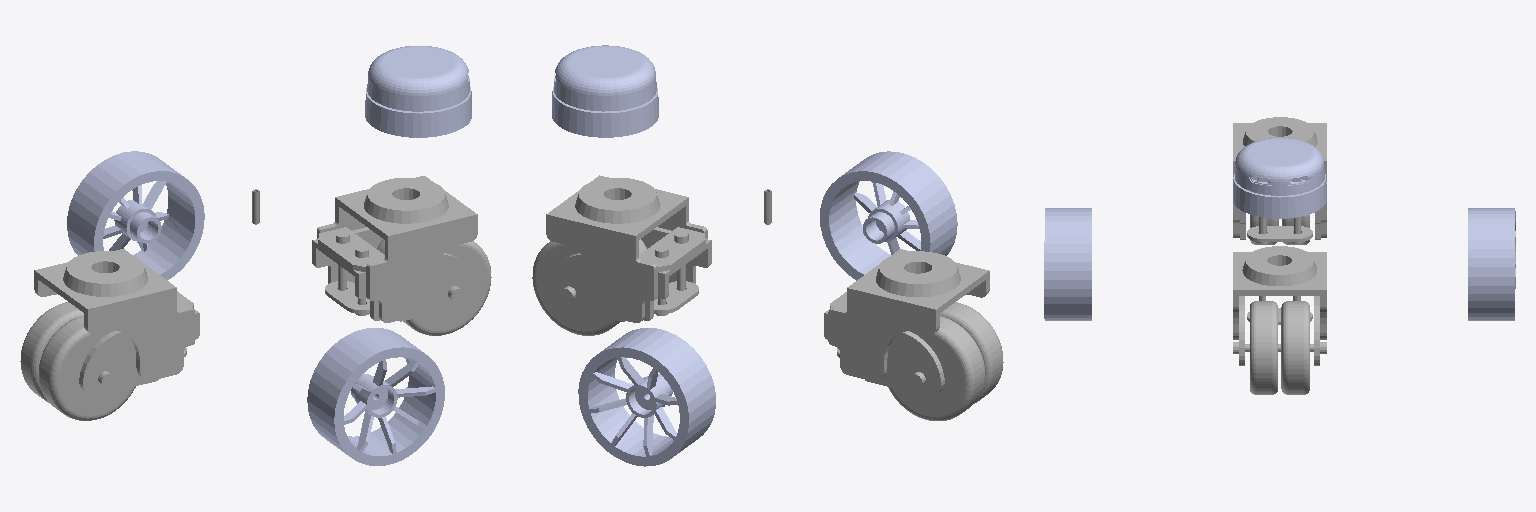
URDF robot description (AGV):
<?xml version="1.0" encoding="utf-8"?>
<!-- This URDF was automatically created by SolidWorks to URDF Exporter! Originally created by [author] ([email redacted]) 
     Commit Version: 1.6.0-1-g15f4949  Build Version: 1.6.7594.29634
     For more information, please see http://wiki.ros.org/sw_urdf_exporter -->
<robot name="AGV"> 

  <link name="base_footprint"/>

  <joint name="base_joint" type="fixed">
    <parent link="base_footprint"/>
    <child link="base_link"/>
    <origin xyz="0.0 0.0 0.0707" rpy="0 0 0"/>
  </joint>


  <link
    name="base_link">
    <inertial>
      <origin
        xyz="0.00109242454391657 -2.60058587002593E-05 -0.0128047227127579"
        rpy="0 0 0" />
      <mass
        value="3.47951537357257" />
      <inertia
        ixx="0.0283503032589176"
        ixy="1.40187790352864E-06"
        ixz="-6.43285437919403E-11"
        iyy="0.029742768517206"
        iyz="-1.79370261167301E-11"
        izz="0.0577998837977604" />
    </inertial>

    <visual>
      <origin
        xyz="0 0 0"
        rpy="0 0 0" />
      <geometry>
        <mesh
          filename="package://robot_description/meshes/base_link.STL" />
      </geometry>
      <material
        name="">
        <color
          rgba="0.745098039215686 0.737254901960784 0.729411764705882 1" />
      </material>
    </visual>

    <collision>
      <origin
        xyz="0 0 0"
        rpy="0 0 0" />
      <geometry>
        <mesh
          filename="package://robot_description/meshes/base_link.STL" />
      </geometry>
    </collision>
  </link>


  <link
    name="wheel_left_link">
    <inertial>
      <origin
        xyz="9.83472570771662E-18 0.00728844339005719 6.93889390390723E-17"
        rpy="0 0 0" />
      <mass
        value="0.0848957004604736" />
      <inertia
        ixx="7.49074965198782E-05"
        ixy="-4.10033560387089E-20"
        ixz="-1.16910573539205E-20"
        iyy="0.000130222848529084"
        iyz="4.77841065602832E-19"
        izz="7.49074965198782E-05" />
    </inertial>

    <visual>
      <origin
        xyz="0 0 0"
        rpy="0 0 0" />
      <geometry>
        <mesh
          filename="package://robot_description/meshes/left_link.STL" />
      </geometry>
      <material
        name="">
        <color
          rgba="0.792156862745098 0.819607843137255 0.933333333333333 1" />
      </material>
    </visual>

    <collision>
      <origin
        xyz="0 0 0"
        rpy="0 0 0" />
      <geometry>
        <mesh
          filename="package://robot_description/meshes/left_link.STL" />
      </geometry>
    </collision>
  </link>


  <joint
    name="wheel_left_joint"
    type="continuous">
    <origin
      xyz="0.00016087 0.16232 -0.0665"
      rpy="0 0 -0.00099109" />
    <parent
      link="base_link" />
    <child
      link="wheel_left_link" />
    <axis
      xyz="0 1 0" />
  </joint>


  <link
    name="wheel_right_link">
    <inertial>
      <origin
        xyz="1.72506873414949E-16 -0.00728844339005699 -2.08166817117217E-17"
        rpy="0 0 0" />
      <mass
        value="0.0848957004604734" />
      <inertia
        ixx="7.4907496519878E-05"
        ixy="-3.29077335789557E-19"
        ixz="-8.56977026080893E-21"
        iyy="0.000130222848529083"
        iyz="7.6497990049025E-22"
        izz="7.4907496519878E-05" />
    </inertial>

    <visual>
      <origin
        xyz="0 0 0"
        rpy="0 0 0" />
      <geometry>
        <mesh
          filename="package://robot_description/meshes/right_link.STL" />
      </geometry>
      <material
        name="">
        <color
          rgba="0.792156862745098 0.819607843137255 0.933333333333333 1" />
      </material>
    </visual>

    <collision>
      <origin
        xyz="0 0 0"
        rpy="0 0 0" />
      <geometry>
        <mesh
          filename="package://robot_description/meshes/right_link.STL" />
      </geometry>
    </collision>
  </link>


  <joint
    name="wheel_right_joint"
    type="continuous">
    <origin
      xyz="-0.00016087 -0.16232 -0.0665"
      rpy="0 0 -0.00099109" />
    <parent
      link="base_link" />
    <child
      link="wheel_right_link" />
    <axis
      xyz="0 1 0" />
  </joint>


  <link
    name="imu_link">
    <inertial>
      <origin
        xyz="-2.05320786414442E-18 6.93889390390723E-18 0.0125"
        rpy="0 0 0" />
      <mass
        value="0.000289811922293658" />
      <inertia
        ixx="1.57326817116465E-08"
        ixy="0"
        ixz="3.60038419913663E-25"
        iyy="1.57326817116465E-08"
        iyz="-2.54401519141024E-24"
        izz="1.27662151770356E-09" />
    </inertial>
    <visual>
      <origin
        xyz="0 0 0"
        rpy="0 0 0" />
      <geometry>
        <mesh
          filename="package://robot_description/meshes/imu_link.STL" />
      </geometry>
      <material
        name="">
        <color
          rgba="0.701960784313725 0.701960784313725 0.701960784313725 1" />
      </material>
    </visual>
    <collision>
      <origin
        xyz="0 0 0"
        rpy="0 0 0" />
      <geometry>
        <mesh
          filename="package://robot_description/meshes/imu_link.STL" />
      </geometry>
    </collision>
  </link>

  
  <joint name="imu_joint" type="fixed">
    <origin
      xyz="0 0 0"
      rpy="0 0 0" />
    <parent
      link="base_link" />
    <child
      link="imu_link" />
    <axis
      xyz="0 0 0" />
  </joint>


  <link
    name="base_scan">
    <inertial>
      <origin
        xyz="-0.000127229355419478 1.31350068537095E-07 0.019460782503022"
        rpy="0 0 0" />
      <mass
        value="0.166053843630804" />
      <inertia
        ixx="7.69193007417122E-05"
        ixy="-4.95548703593643E-10"
        ixz="2.37676143504077E-07"
        iyy="7.64310598769666E-05"
        iyz="-2.37005623379629E-10"
        izz="0.000108589049493822" />
    </inertial>

    <visual>
      <origin
        xyz="0 0 0"
        rpy="0 0 0" />
      <geometry>
        <mesh
          filename="package://robot_description/meshes/lidar_link.STL" />
      </geometry>
      <material
        name="">
        <color
          rgba="0.792156862745098 0.819607843137255 0.933333333333333 1" />
      </material>
    </visual>

    <collision>
      <origin
        xyz="0 0 0"
        rpy="0 0 0" />
      <geometry>
        <mesh
          filename="package://robot_description/meshes/lidar_link.STL" />
      </geometry>
    </collision>
  </link>


  <joint
    name="scan_joint"
    type="fixed">
    <origin
      xyz="0.132 -0.00013082 0.053"
      rpy="0 0 0" />
    <parent
      link="base_link" />
    <child
      link="base_scan" />
    <axis
      xyz="0 0 0" />
  </joint>
  <!--============================extra wheels===============================-->


  <link name="front_rotate_link">
    <inertial>
      <origin
        xyz="-0.012247856619052 2.63677968348475E-16 -0.0258423527037026"
        rpy="0 0 0" />
      <mass
        value="0.134968786413858" />
      <inertia
        ixx="0.000132736560537161"
        ixy="2.05670187505185E-20"
        ixz="-1.16913015315812E-05"
        iyy="0.000108905111851544"
        iyz="1.6991854324779E-21"
        izz="0.00016431082681564" />
    </inertial>

    <visual>
      <origin
        xyz="0 0 0"
        rpy="0 0 0" />
      <geometry>
        <mesh filename="package://robot_description/meshes/front_link.STL" />
      </geometry>
      <material name="">
        <color rgba="0.749019607843137 0.749019607843137 0.749019607843137 1" />
      </material>
    </visual>

    <collision>
      <origin
        xyz="0 0 0"
        rpy="0 0 0" />
      <geometry>
        <mesh filename="package://robot_description/meshes/front_link.STL" />
      </geometry>
    </collision>
  </link>


  <joint name="front_rotate_joint" type="continuous">
    <origin
      xyz="0.122 -0.00012091 -0.015"
      rpy="0 0 0" />
    <parent 
      link="base_link" />
    <child 
      link="front_rotate_link" />
    <axis
      xyz="0 0 -1" />
  </joint>


  <link name="front_wheel_link">
    <inertial>
      <origin
        xyz="0 2.70616862252382E-16 -6.93889390390723E-18"
        rpy="0 0 0" />
      <mass
        value="0.192670881607509" />
      <inertia
        ixx="7.63146365292796E-05"
        ixy="1.19769135252778E-19"
        ixz="2.02825221494103E-21"
        iyy="0.00013627319824331"
        iyz="-8.12098592530515E-20"
        izz="7.63146365292795E-05" />
    </inertial>

    <visual>
      <origin
        xyz="0 0 0"
        rpy="0 0 0" />
      <geometry>
        <mesh filename="package://robot_description/meshes/f_wheel_link.STL" />
      </geometry>
      <material
        name="">
        <color
          rgba="0.749019607843137 0.749019607843137 0.749019607843137 1" />
      </material>
    </visual>

    <collision>
      <origin
        xyz="0 0 0"
        rpy="0 0 0" />
      <geometry>
        <mesh filename="package://robot_description/meshes/f_wheel_link.STL" />
      </geometry>
    </collision>
  </link>


  <joint name="front_wheel_joint" type="continuous">
    <origin
      xyz="0.019817 0 -0.059"
      rpy="0 0 0" />
    <parent
      link="front_rotate_link" />
    <child
      link="front_wheel_link" />
    <axis
      xyz="0 1 0" />
  </joint>


  <link
    name="back_rotate_link">
    <inertial>
      <origin
        xyz="0.0122478566190519 -2.4980018054066E-16 -0.0258423527037026"
        rpy="0 0 0" />
      <mass
        value="0.134968786413858" />
      <inertia
        ixx="0.000132736560537161"
        ixy="-3.03740720929472E-21"
        ixz="1.16913015315812E-05"
        iyy="0.000108905111851544"
        iyz="1.10029337805242E-20"
        izz="0.00016431082681564" />
    </inertial>

    <visual>
      <origin
        xyz="0 0 0"
        rpy="0 0 0" />
      <geometry>
        <mesh filename="package://robot_description/meshes/back_link.STL" />
      </geometry>
      <material
        name="">
        <color
          rgba="0.749019607843137 0.749019607843137 0.749019607843137 1" />
      </material>
    </visual>

    <collision>
      <origin
        xyz="0 0 0"
        rpy="0 0 0" />
      <geometry>
        <mesh filename="package://robot_description/meshes/back_link.STL" />
      </geometry>
    </collision>
  </link>


  <joint name="back_rotate_joint" type="continuous">
    <origin
      xyz="-0.122 0.00012091 -0.015"
      rpy="0 0 0" />
    <parent
      link="base_link" />
    <child
      link="back_rotate_link" />
    <axis
      xyz="0 0 -1" />
  </joint>


  <link name="back_wheel_link">
    <inertial>
      <origin
        xyz="0 -2.70616862252382E-16 6.93889390390723E-18"
        rpy="0 0 0" />
      <mass
        value="0.192670881607509" />
      <inertia
        ixx="7.63146365292796E-05"
        ixy="-1.31793032636849E-19"
        ixz="8.50993400127031E-21"
        iyy="0.00013627319824331"
        iyz="-7.98856054603815E-20"
        izz="7.63146365292796E-05" />
    </inertial>

    <visual>
      <origin
        xyz="0 0 0"
        rpy="0 0 0" />
      <geometry>
        <mesh filename="package://robot_description/meshes/b_wheel_link.STL" />
      </geometry>
      <material
        name="">
        <color
          rgba="0.749019607843137 0.749019607843137 0.749019607843137 1" />
      </material>
    </visual>

    <collision>
      <origin
        xyz="0 0 0"
        rpy="0 0 0" />
      <geometry>
        <mesh filename="package://robot_description/meshes/b_wheel_link.STL" />
      </geometry>
    </collision>
  </link>


  <joint name="back_wheel_joint" type="continuous">
    <origin
      xyz="-0.019817 0 -0.059"
      rpy="0 0 0" />
    <parent
      link="back_rotate_link" />
    <child
      link="back_wheel_link" />
    <axis
      xyz="0 1 0" />
  </joint>

  <!--=========================gazebo reference/plugin=======================-->
  <gazebo reference="base_link">
    <material>Gazebo/DarkGrey</material>
  </gazebo>

  <gazebo reference="wheel_left_link">
    <mu1>0.1</mu1>
    <mu2>0.1</mu2>
    <kp>500000.0</kp>
    <kd>10.0</kd>
    <minDepth>0.001</minDepth>
    <maxVel>0.22</maxVel>
    <fdir1>1 0 0</fdir1>
  </gazebo>

  <gazebo reference="wheel_right_link">
    <mu1>0.1</mu1>
    <mu2>0.1</mu2>
    <kp>500000.0</kp>
    <kd>10.0</kd>
    <minDepth>0.001</minDepth>
    <maxVel>0.22</maxVel>
    <fdir1>1 0 0</fdir1>
  </gazebo>

  <gazebo reference="front_rotate_link">
    <mu1>0.1</mu1>
    <mu2>0.1</mu2>
    <kp>500000.0</kp>
    <kd>10.0</kd>
    <minDepth>0.001</minDepth>
    <maxVel>10</maxVel>
    <fdir1>1 0 0</fdir1>
  </gazebo>

  <gazebo reference="back_rotate_link">
    <mu1>0.1</mu1>
    <mu2>0.1</mu2>
    <kp>500000.0</kp>
    <kd>10.0</kd>
    <minDepth>0.001</minDepth>
    <maxVel>10</maxVel>
    <fdir1>1 0 0</fdir1>
  </gazebo>

  <gazebo reference="front_wheel_link">
    <mu1>0.1</mu1>
    <mu2>0.1</mu2>
    <kp>500000.0</kp>
    <kd>10.0</kd>
    <minDepth>0.001</minDepth>
    <maxVel>0.22</maxVel>
    <fdir1>1 0 0</fdir1>
  </gazebo>

  <gazebo reference="back_wheel_link">
    <mu1>0.1</mu1>
    <mu2>0.1</mu2>
    <kp>500000.0</kp>
    <kd>10.0</kd>
    <minDepth>0.001</minDepth>
    <maxVel>0.22</maxVel>
    <fdir1>1 0 0</fdir1>
  </gazebo>

  <gazebo>
    <plugin name="AGV_controller" filename="libgazebo_ros_diff_drive.so">
      <commandTopic>cmd_vel</commandTopic>
      <odometryTopic>odom</odometryTopic>
      <odometryFrame>odom</odometryFrame>
      <odometrySource>world</odometrySource>
      <publishOdomTF>true</publishOdomTF>
      <robotBaseFrame>base_footprint</robotBaseFrame>
      <publishWheelTF>false</publishWheelTF>
      <publishTf>true</publishTf>
      <publishWheelJointState>true</publishWheelJointState>
      <legacyMode>false</legacyMode>
      <updateRate>30</updateRate>
      <leftJoint>wheel_left_joint</leftJoint>
      <rightJoint>wheel_right_joint</rightJoint>
      <wheelSeparation>0.372</wheelSeparation>
      <wheelDiameter>0.064</wheelDiameter>
      <wheelAcceleration>1</wheelAcceleration>
      <wheelTorque>10</wheelTorque>
      <rosDebugLevel>na</rosDebugLevel>
    </plugin>
  </gazebo>

   <gazebo reference="base_scan">
    <sensor type="ray" name="rplidarA2_sensor">
      <pose>0 0 0 0 0 0</pose>
      <visualize>false</visualize>
      <update_rate>40</update_rate>
      <ray>
        <scan>
          <horizontal>
            <samples>720</samples>
            <resolution>1</resolution>
            <min_angle>-3.14159265</min_angle>
            <max_angle>3.14159265</max_angle>
          </horizontal>
        </scan>
        <range>
          <min>0.2</min>
          <max>12.0</max>
          <resolution>0.01</resolution>
        </range>
        <noise>
          <type>gaussian</type>
          <mean>0.0</mean>
          <stddev>0.01</stddev>
        </noise>
      </ray>
      <plugin name="gazebo_ros_rplidarA2_controller" filename="libgazebo_ros_laser.so">
        <topicName>scan</topicName>
        <frameName>base_scan</frameName>
      </plugin>
    </sensor>
  </gazebo> 


  

</robot>

--- What the picture shows (computed from the rendered views, not written in the file) ---
3 views of the same robot in one strip: view 1: azimuth 30°, elevation 25°; view 2: azimuth 150°, elevation 25°; view 3: azimuth 270°, elevation 25° (orthographic).
Robot: AGV — 10 links, 9 joints (6 continuous, 3 fixed); root link base_footprint; default pose: all joints at 0.
Links seen in each view (by area): view 1: front_rotate_link, back_rotate_link, wheel_right_link, wheel_left_link, base_scan, back_wheel_link, front_wheel_link; view 2: front_rotate_link, back_rotate_link, wheel_left_link, wheel_right_link, base_scan, back_wheel_link, front_wheel_link; view 3: base_scan, front_rotate_link, wheel_left_link, wheel_right_link, front_wheel_link, back_rotate_link.
Link boxes in pixels (x1,y1,x2,y2): front_rotate_link: [312, 176, 477, 322]; back_rotate_link: [34, 249, 199, 395]; wheel_right_link: [307, 328, 444, 465]; wheel_left_link: [67, 151, 204, 280]; base_scan: [365, 46, 471, 137]; back_wheel_link: [20, 302, 135, 420]; front_wheel_link: [377, 239, 491, 335]; front_rotate_link: [546, 175, 711, 322]; back_rotate_link: [824, 249, 989, 395]; wheel_left_link: [578, 328, 715, 466]; wheel_right_link: [820, 151, 957, 280]; base_scan: [552, 45, 658, 137]; back_wheel_link: [888, 302, 1003, 420]; front_wheel_link: [532, 239, 646, 335]; base_scan: [1233, 138, 1326, 218]; front_rotate_link: [1233, 246, 1326, 365]; wheel_left_link: [1468, 208, 1515, 320]; wheel_right_link: [1044, 208, 1091, 320]; front_wheel_link: [1250, 301, 1309, 394]; back_rotate_link: [1233, 117, 1326, 243].
Size in the robot's own frame: 0.3586 by 0.3767 by 0.2055 metres.
8 mesh visuals loaded from 9 distinct referenced files (8 binary STL); not drawn: 1 (reference not matched to a file when rendering).
